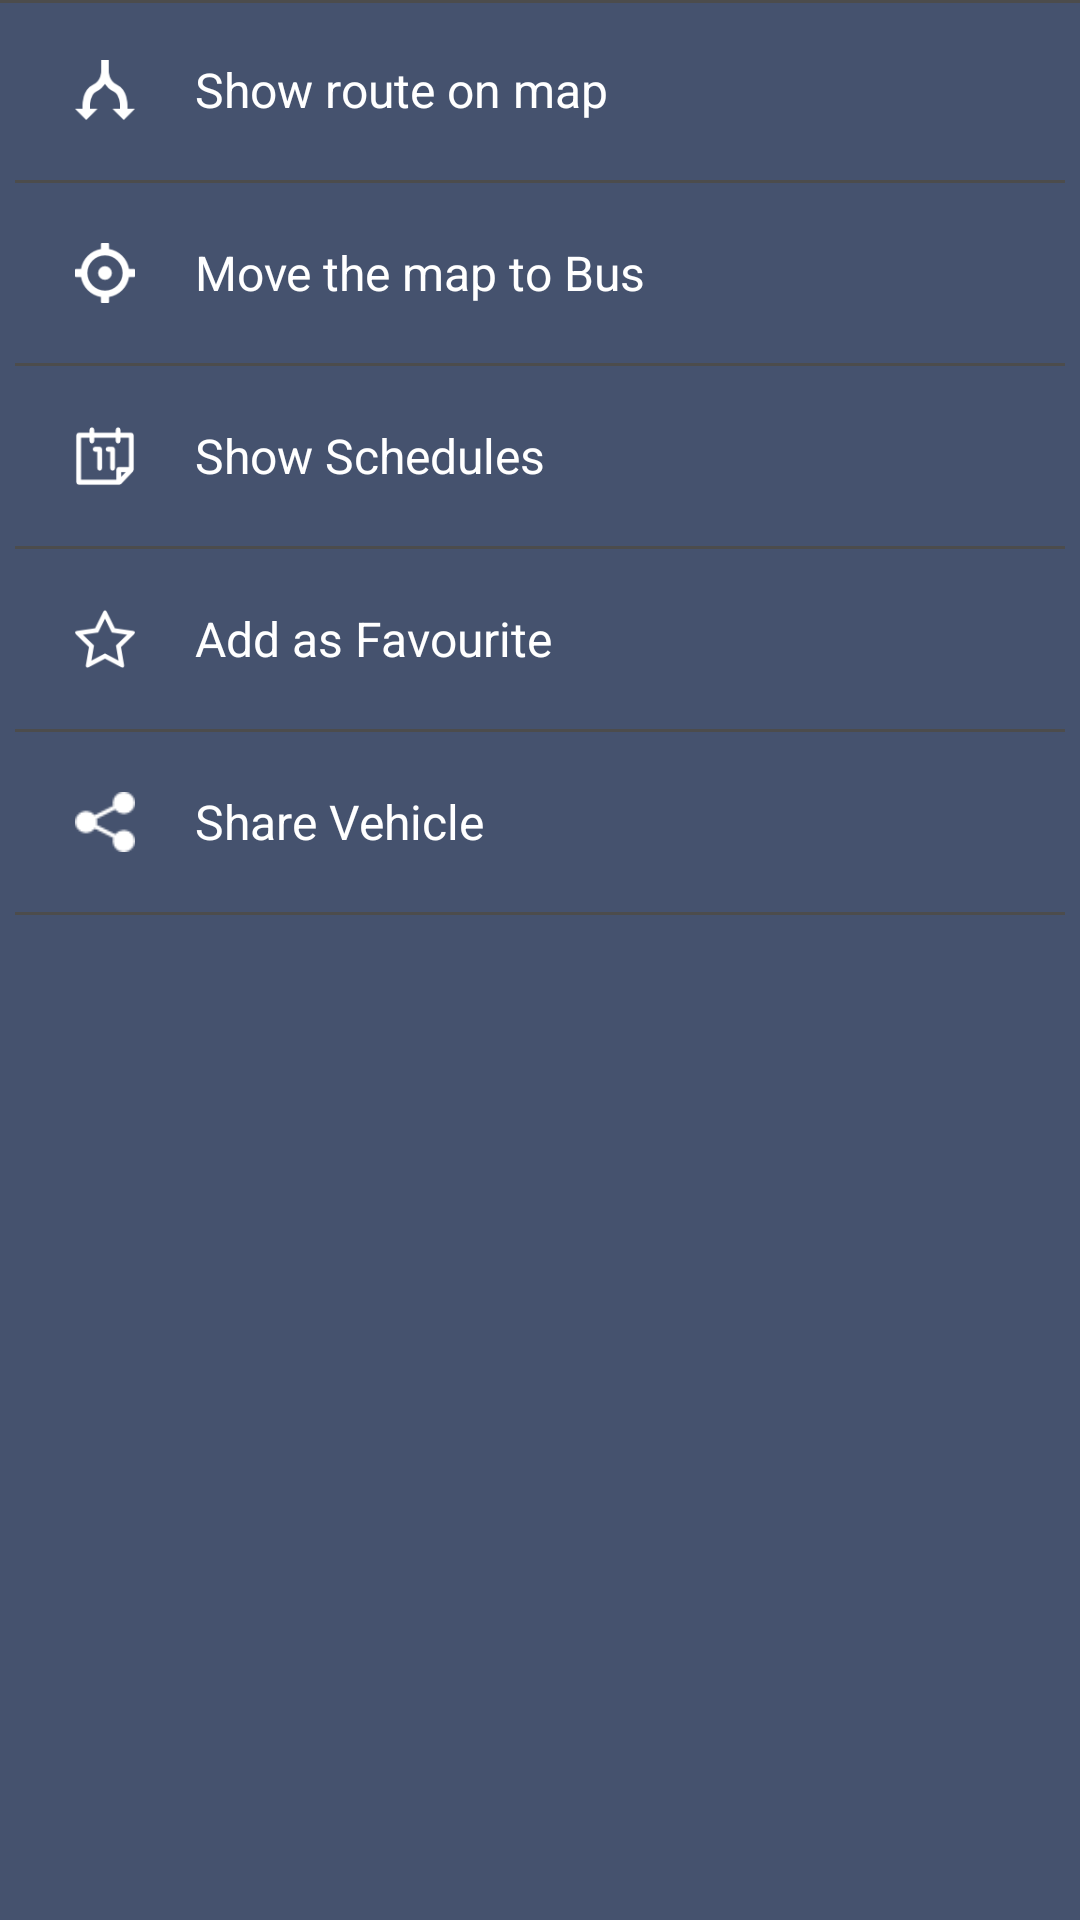

Icon click points for this 1080*1920 phone screenshot, format (x,y):
focus: (105,273)
road: (105,90)
star: (105,639)
